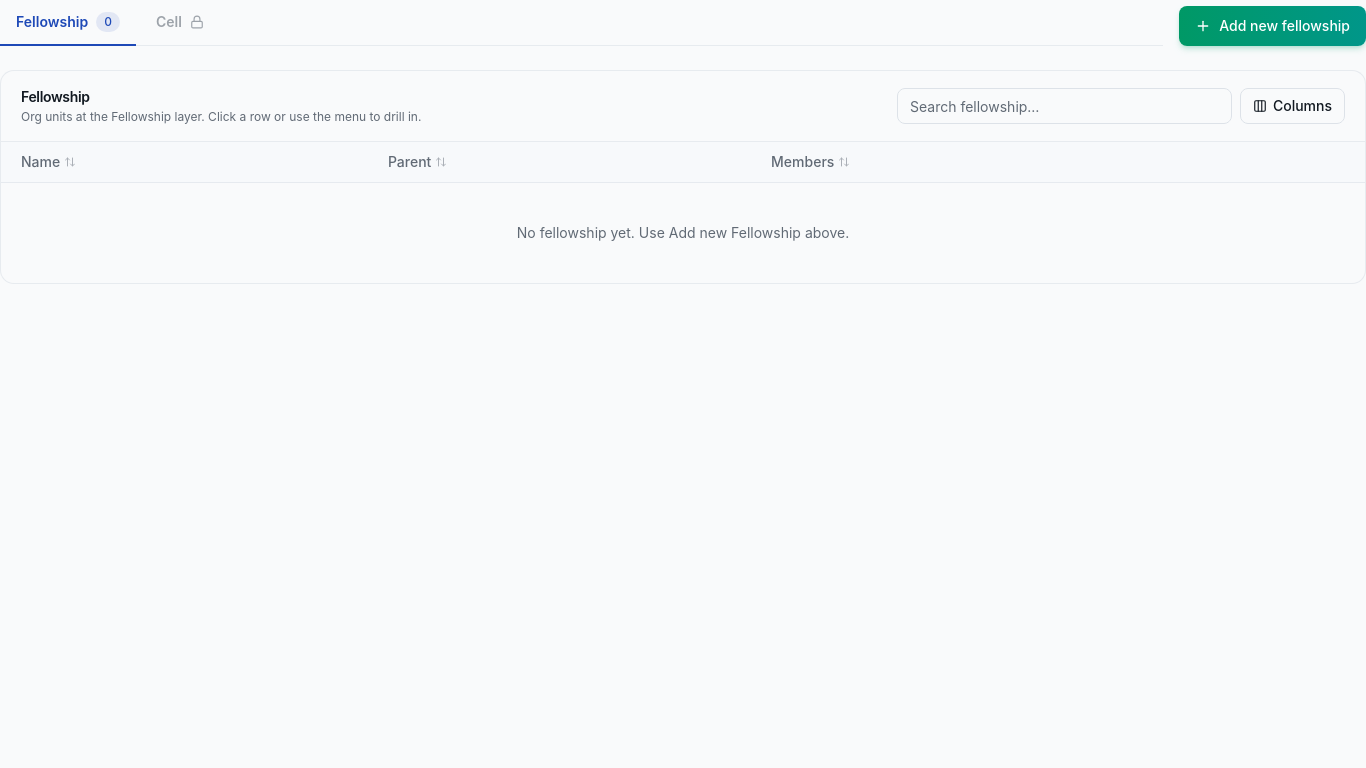
Test: RosterView add unit › opens the same create-unit modal when adding a fellowship
Click the button "Add new fellowship".
click(1273, 26)  # box left=1179, top=6, right=1365, bottom=46
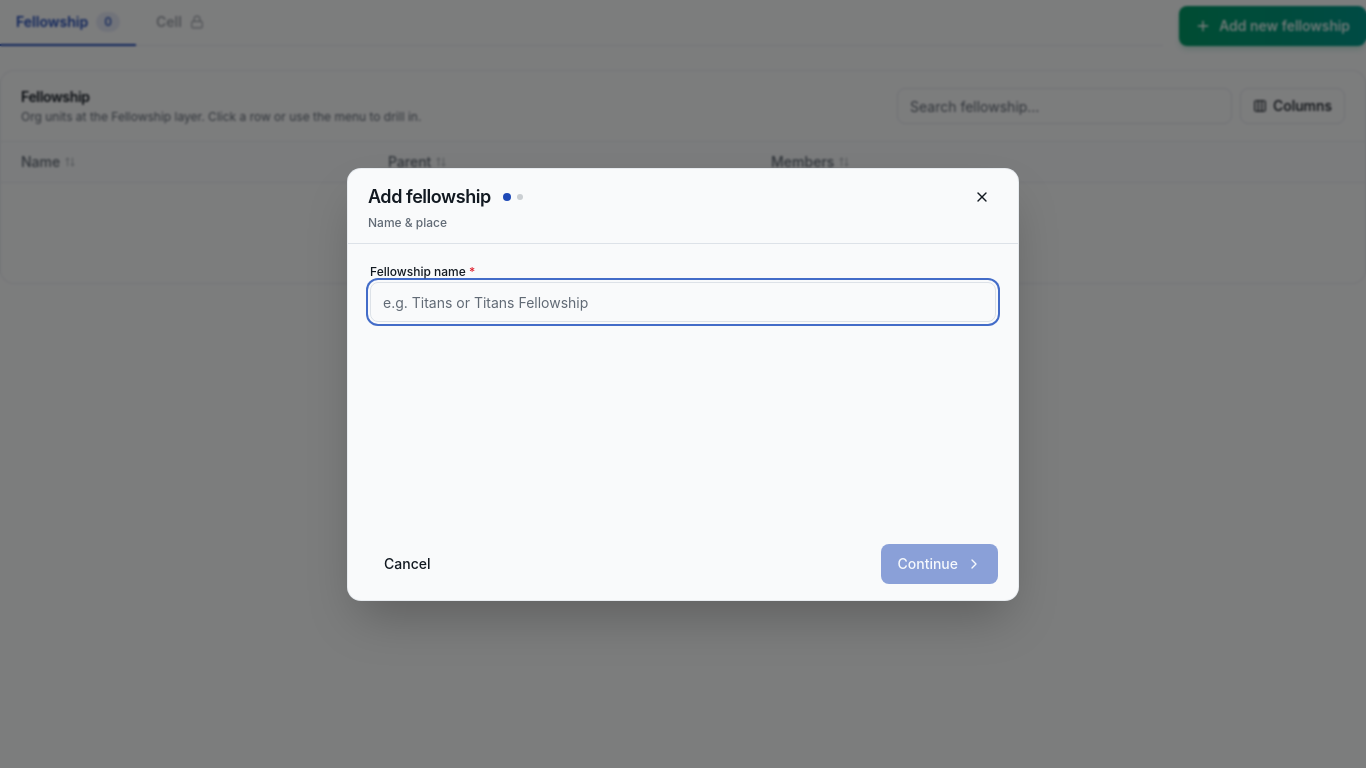
Expected: the element with test id "unit-create-wizard" is shown, left=368, top=260, right=998, bottom=584
Expected: the heading "Add fellowship" is shown, left=368, top=182, right=491, bottom=210
